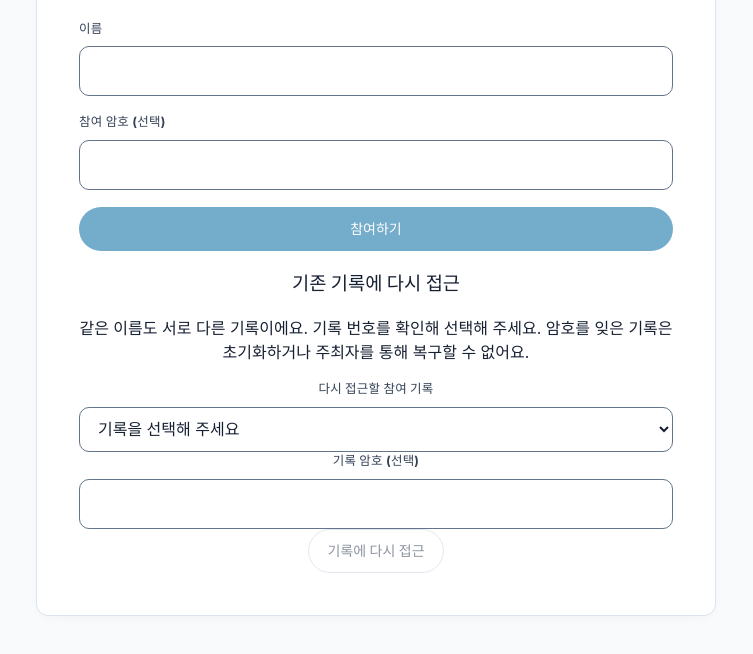
#108 RoomPage verified access restores only the server-authorized viewer › uses an explicit duplicate-name ID and purges prior private caches before re-reading the restored viewer
The width and height of the screenshot is (753, 654).
(page scrolled)
Step 1. Select "민수 · 22222222-2222-4222-8222-222222222222" in the dropdown labelled "다시 접근할 참여 기록" → [376, 430], box [79,407,673,452]
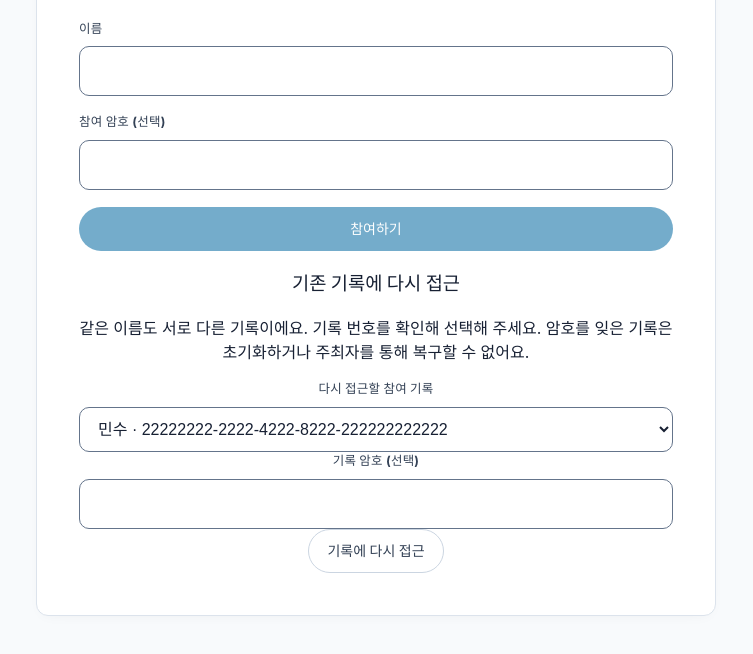
Step 2. Type "valid-password" into the password field labelled "기록 암호 (선택)" → [376, 504], box [79,479,673,529]
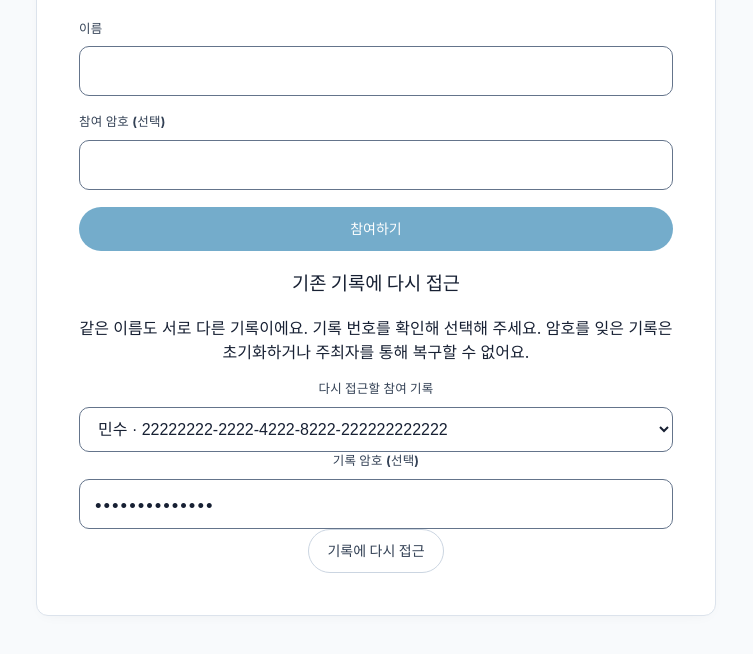
Step 3. Click the button "기록에 다시 접근" → [376, 551], box [308,529,444,573]
(page scrolled)
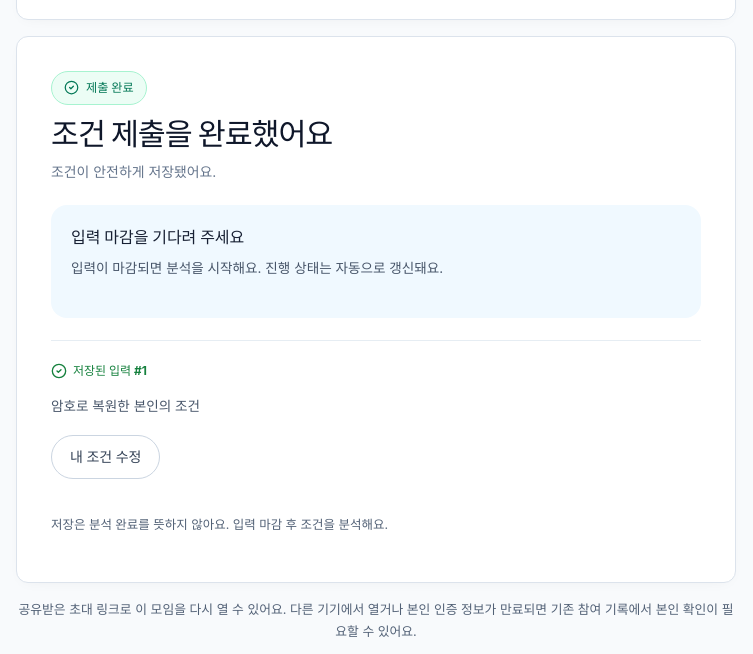
Expected: the text "암호로 복원한 본인의 조건" is shown, [51,398,200,414]
